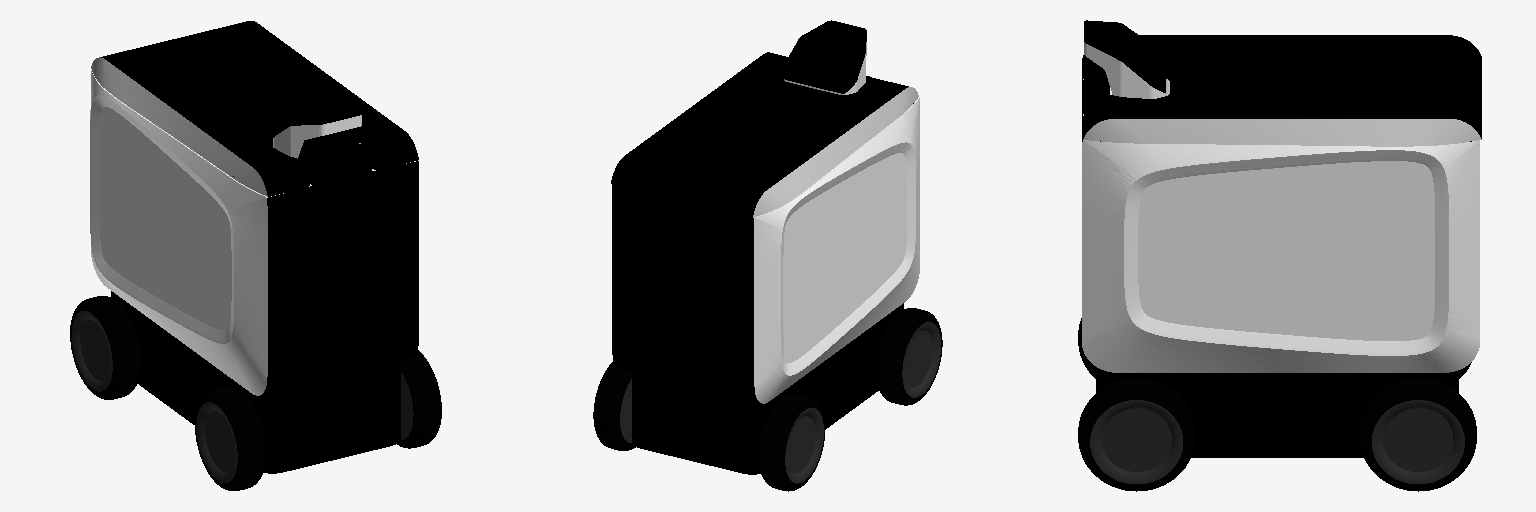
The robot description file, URDF, robot "eva":
<robot name="eva">
    <link name="base_link">
        <visual>
            <geometry> 
            <mesh filename="package://deliverybot_description/models/EVA_Body.dae"/>
            </geometry>
            <origin rpy="0 0 0" xyz="0 0 .5"/>
        </visual>
    </link>
    <link name="fl_tire">
        <visual>
            <geometry>
                <mesh filename="package://deliverybot_description/models/EVA_Wheel.dae"/>
            </geometry>
        </visual>
    </link>
    <link name="fr_tire">
        <visual>
            <geometry>
                <mesh filename="package://deliverybot_description/models/EVA_Wheel.dae"/>
            </geometry>
        </visual>
    </link>
    <link name="bl_tire">
        <visual>
            <geometry>
                <mesh filename="package://deliverybot_description/models/EVA_Wheel.dae"/>
            </geometry>
        </visual>
    </link>
    <link name="br_tire">
        <visual>
            <geometry>
                <mesh filename="package://deliverybot_description/models/EVA_Wheel.dae"/>
            </geometry>
        </visual>
    </link>
    <link name="door">
        <visual>
            <geometry>
                <mesh filename="package://deliverybot_description/models/EVA_Lid.dae" />
            </geometry>
            <origin rpy="0 0 0" xyz="0 .425 0" />
        </visual>
        
    </link>



    <joint name="fl_tire_joint" type="continuous">
        <parent link="base_link"/>
        <child link="fl_tire"/>
        <origin xyz="-0.25 0.3 0.125" rpy="0 0 0" />
    </joint>

    <joint name="fr_tire_joint" type="continuous">
        <parent link="base_link" />
        <child link="fr_tire" />
        <origin xyz="0.25 0.3 0.125" rpy="0 0 3.14" />
    </joint>

    <joint name="bl_tire_joint" type="continuous">
        <parent link="base_link" />
        <child link="bl_tire" />
        <origin xyz="-0.25 -0.3 0.125" rpy="0 0 0" />
    </joint>

    <joint name="br_tire_joint" type="continuous">
        <parent link="base_link" />
        <child link="br_tire" />
        <origin xyz="0.25 -0.3 0.125" rpy="0 0 3.14" />
    </joint>

    <joint name="door_link" type="revolute">
        <limit lower="0" upper="1.57" effort="0" velocity="0.785" />
        <origin rpy="0 0 0" xyz="0 -0.4375 .825" />
        <parent link="base_link" />
        <child link="door" />
    </joint>
    

</robot>

--- Render facts (derived) ---
Views: 3 orthographic renders of the robot side by side, from view 1: azimuth 30°, elevation 25°; view 2: azimuth 150°, elevation 25°; view 3: azimuth 270°, elevation 25°.
Model eva with 6 links and 5 joints (1 revolute, 4 continuous), rooted at base_link, posed all joints at 0.
Links seen in each view (by area): view 1: base_link, door, bl_tire, fl_tire, br_tire; view 2: base_link, door, fl_tire, bl_tire, fr_tire; view 3: base_link, door, fr_tire, br_tire.
Link boxes in pixels (x1=…): base_link: x1=90, y1=69, x2=418, y2=473; door: x1=91, y1=21, x2=418, y2=196; bl_tire: x1=195, y1=387, x2=265, y2=490; fl_tire: x1=70, y1=296, x2=140, y2=399; br_tire: x1=397, y1=350, x2=441, y2=448; base_link: x1=612, y1=20, x2=919, y2=474; door: x1=611, y1=52, x2=918, y2=217; fl_tire: x1=758, y1=394, x2=824, y2=491; bl_tire: x1=876, y1=308, x2=942, y2=405; fr_tire: x1=593, y1=361, x2=635, y2=450; base_link: x1=1082, y1=20, x2=1479, y2=457; door: x1=1083, y1=35, x2=1481, y2=146; fr_tire: x1=1360, y1=378, x2=1476, y2=491; br_tire: x1=1078, y1=378, x2=1194, y2=491.
Size in the robot's own frame: 0.5626 by 0.8603 by 0.9607 metres.
6 mesh visuals loaded from 3 distinct referenced files (3 Collada DAE).
